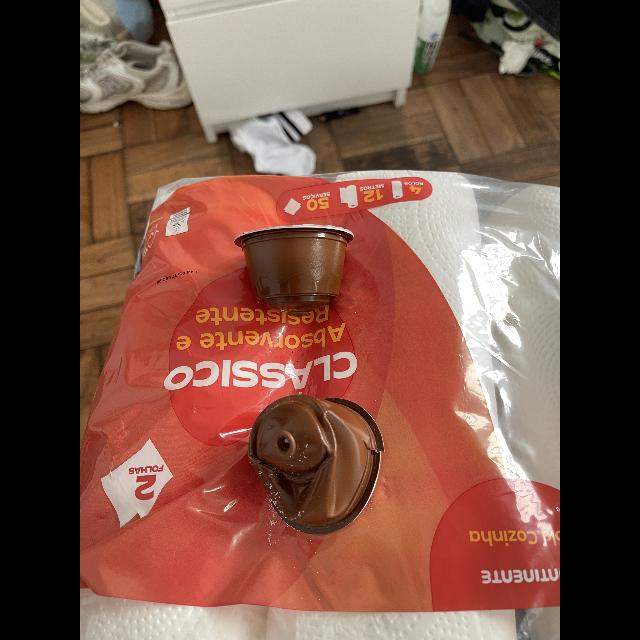damaged_capsule: (241, 386, 393, 542)
intact_capsule: (232, 216, 352, 314)
